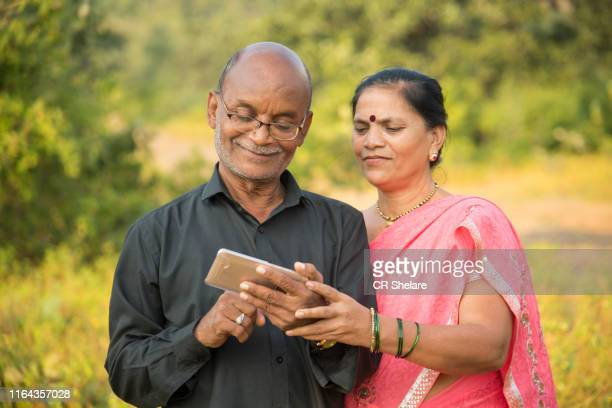men: (203, 40, 317, 182)
women: (341, 66, 454, 190)
